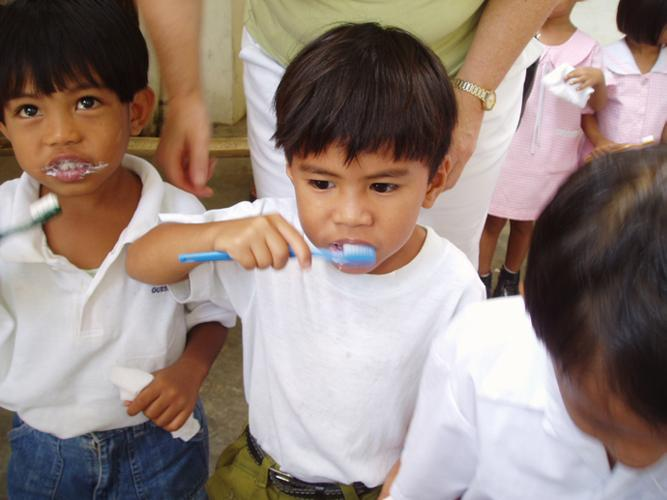person: (124, 23, 494, 500)
